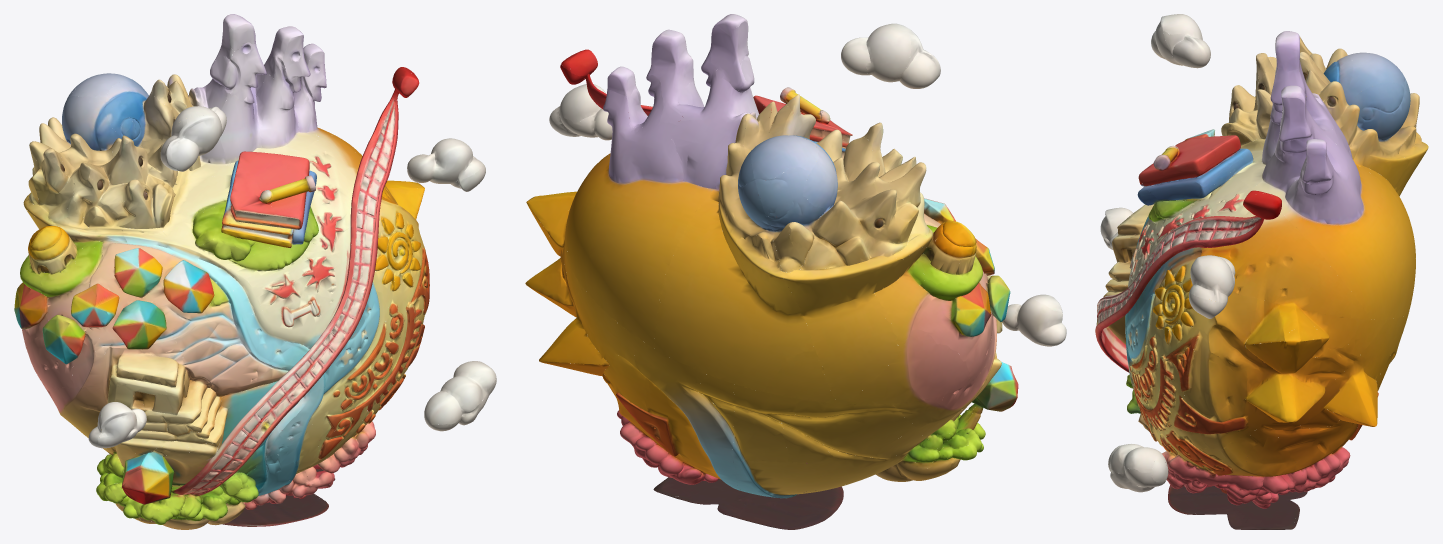
Rendered from planeta.glb.
3 renders of one model, left to right at view 1: azimuth 30°, elevation 25°; view 2: azimuth 150°, elevation 25°; view 3: azimuth 270°, elevation 25°, orthographic. The views are drawn at different scales.
Parts seen in each view (by area): view 1: SM_Planeta; view 2: SM_Planeta; view 3: SM_Planeta.
Boxes of the visible parts, x1,y1,x2,y2 form: SM_Planeta: [14, 14, 496, 529]; SM_Planeta: [525, 14, 1066, 529]; SM_Planeta: [1095, 14, 1428, 529].
Bounding box in the file's own units: 2.41 × 2.42 × 1.59.
1 material, 1 textured.
